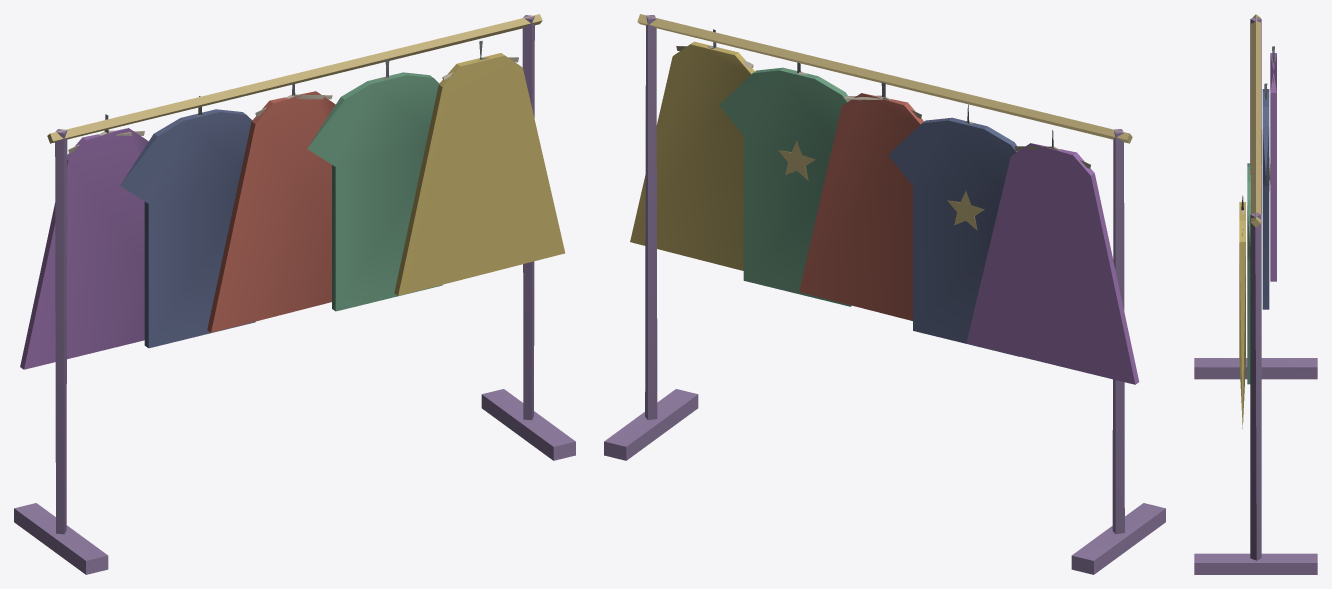
The model's file is wear_rack_straight__costume_low.glb.
3 views of the same model, side by side, from view 1: azimuth 30°, elevation 25°; view 2: azimuth 150°, elevation 25°; view 3: azimuth 270°, elevation 25° (orthographic). The views are drawn at different scales.
Visible parts, largest first — view 1: wear.rack_straight__costume; view 2: wear.rack_straight__costume; view 3: wear.rack_straight__costume.
Boxes of the visible parts, left/top/right/bottom form: wear.rack_straight__costume: left=14, top=14, right=575, bottom=574; wear.rack_straight__costume: left=604, top=14, right=1165, bottom=574; wear.rack_straight__costume: left=1194, top=14, right=1317, bottom=574.
Size of the model in its own units: 2.36 by 1.78 by 0.56.
